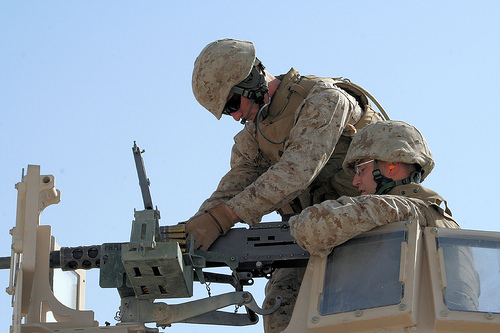rifle: (4, 141, 188, 301)
rifle in hand: (7, 138, 278, 313)
